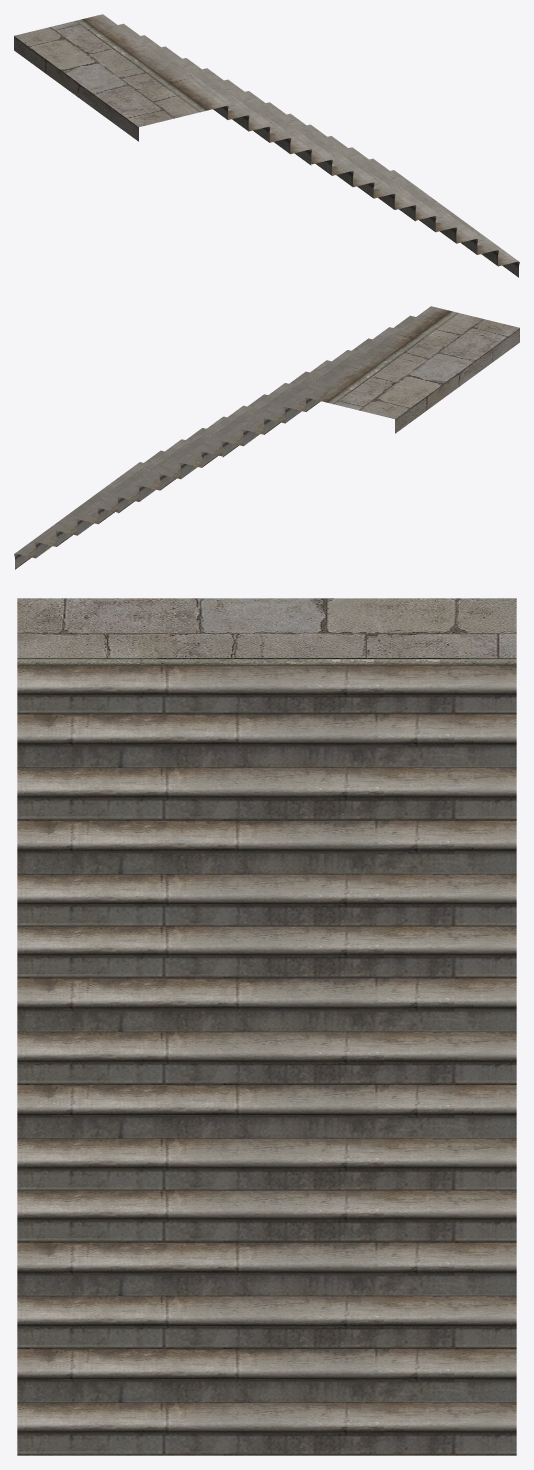
The model's file is Stair.fbx.
3 views of the same model, one above another, from view 1: azimuth 30°, elevation 25°; view 2: azimuth 150°, elevation 25°; view 3: azimuth 270°, elevation 25° (orthographic). The views are drawn at different scales.
Parts seen in each view (by area): view 1: LV_Arena_Object_Stair04_SM_HSH; view 2: LV_Arena_Object_Stair04_SM_HSH; view 3: LV_Arena_Object_Stair04_SM_HSH.
Part boxes in pixels (x1=…): LV_Arena_Object_Stair04_SM_HSH: x1=14, y1=14, x2=519, y2=277; LV_Arena_Object_Stair04_SM_HSH: x1=14, y1=306, x2=519, y2=569; LV_Arena_Object_Stair04_SM_HSH: x1=17, y1=598, x2=516, y2=1455.
Size of the model in its own units: 1.45 by 0.8869 by 0.8252.
Materials: 1 (1 with a texture image).
